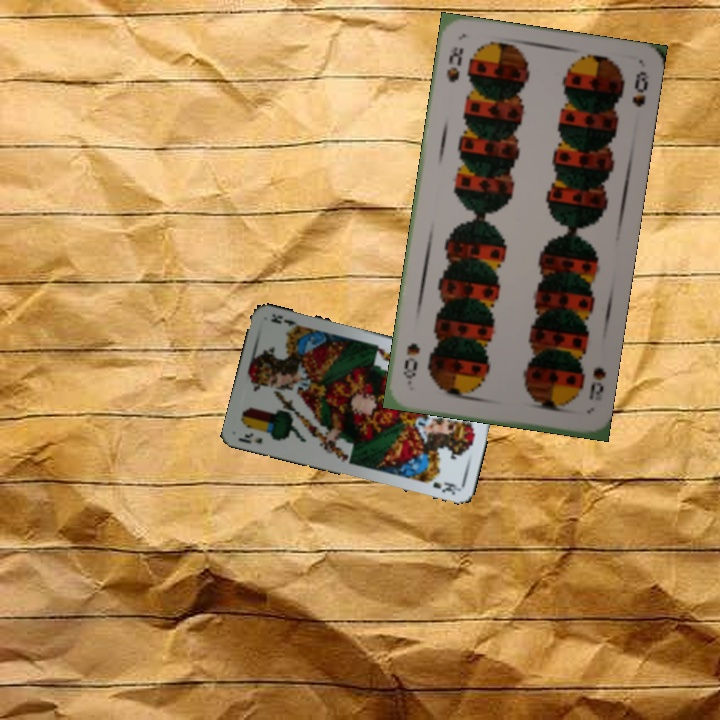EK: (235, 428, 265, 446)
S8: (442, 42, 466, 86), (585, 363, 609, 402)
